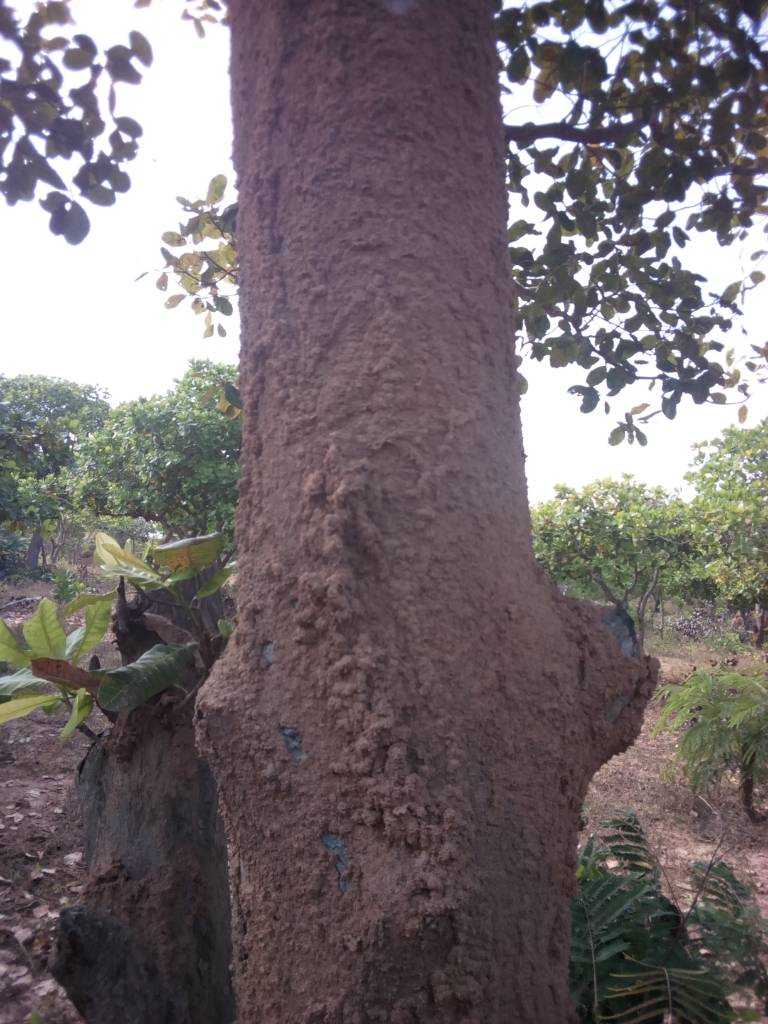Virose: (168, 33, 670, 991)
